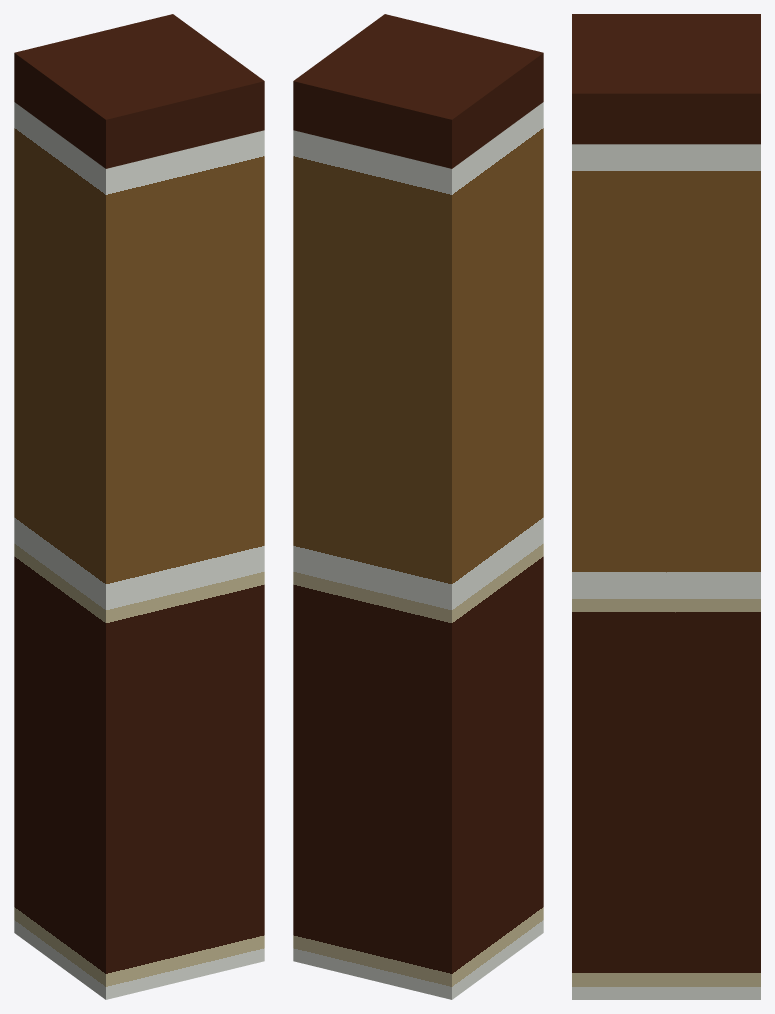
Rendered from wall_panel_corner.fbx.
3 renders of one model, left to right at view 1: azimuth 30°, elevation 25°; view 2: azimuth 150°, elevation 25°; view 3: azimuth 270°, elevation 25°, orthographic. The views are drawn at different scales.
Visible parts, largest first — view 1: Cube.002; view 2: Cube.002; view 3: Cube.002.
Part boxes in pixels (<box>): Cube.002: <box>14,14,264,999</box>; Cube.002: <box>293,14,543,999</box>; Cube.002: <box>572,14,760,999</box>.
Bounding box in the file's own units: 200 × 200 × 1059.
